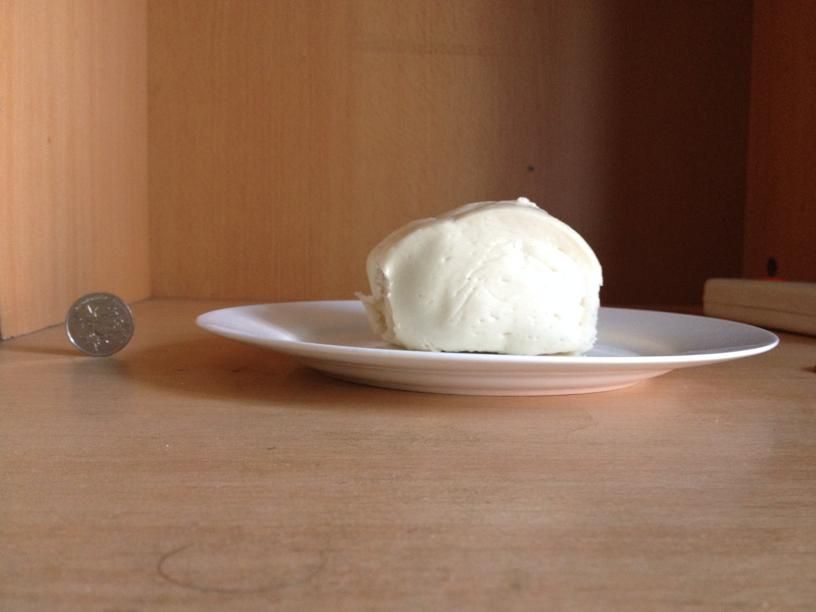bun: (368, 199, 599, 357)
coin: (64, 292, 134, 355)
